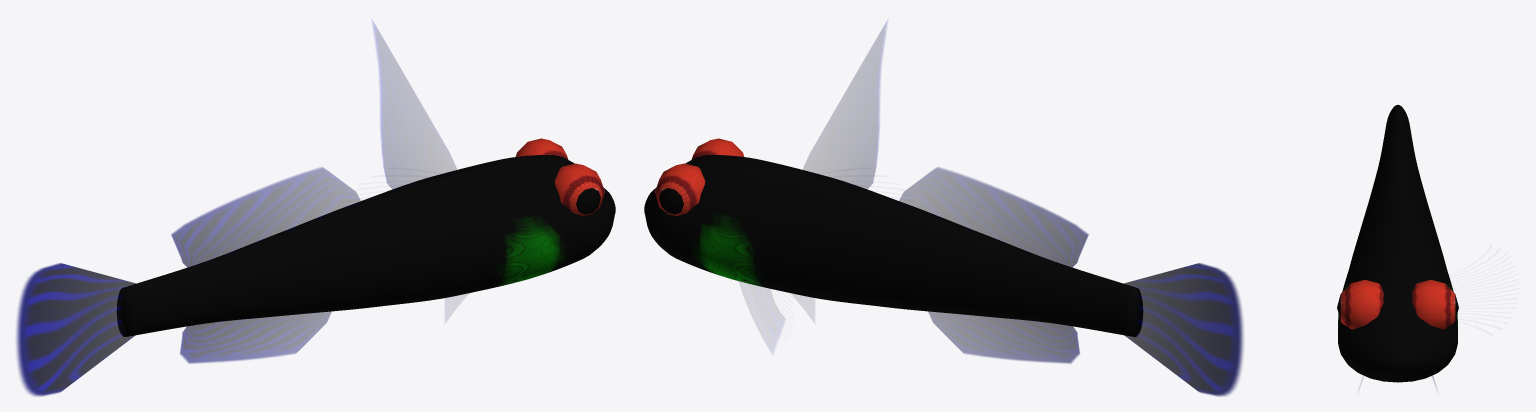
The model's file is mandarin.glb.
3 renders of one model, left to right at view 1: azimuth 30°, elevation 25°; view 2: azimuth 150°, elevation 25°; view 3: azimuth 270°, elevation 25°, orthographic. The views are drawn at different scales.
Visible parts, largest first — view 1: Body, FinCaudal, FinDorsal2, FinDorsal, FinAnal, EyeR, EyeL; view 2: Body, FinCaudal, FinDorsal2, FinDorsal, FinAnal, EyeL, EyeR; view 3: Body, EyeL, EyeR.
Boxes of the visible parts, x1,y1,x2,y2 form: Body: [117, 155, 615, 336]; FinCaudal: [16, 263, 137, 396]; FinDorsal2: [171, 167, 361, 268]; FinDorsal: [373, 22, 458, 191]; FinAnal: [180, 311, 331, 363]; EyeR: [555, 163, 604, 215]; EyeL: [515, 138, 568, 159]; Body: [644, 155, 1142, 336]; FinCaudal: [1122, 263, 1243, 396]; FinDorsal2: [898, 167, 1088, 268]; FinDorsal: [801, 22, 886, 191]; FinAnal: [928, 311, 1079, 363]; EyeL: [655, 163, 704, 215]; EyeR: [691, 138, 744, 159]; Body: [1338, 105, 1457, 382]; EyeL: [1412, 280, 1458, 329]; EyeR: [1337, 280, 1383, 329].
Size of the model in its own units: 1 by 0.5612 by 0.3703.
Materials: 4 (3 with a texture image).
